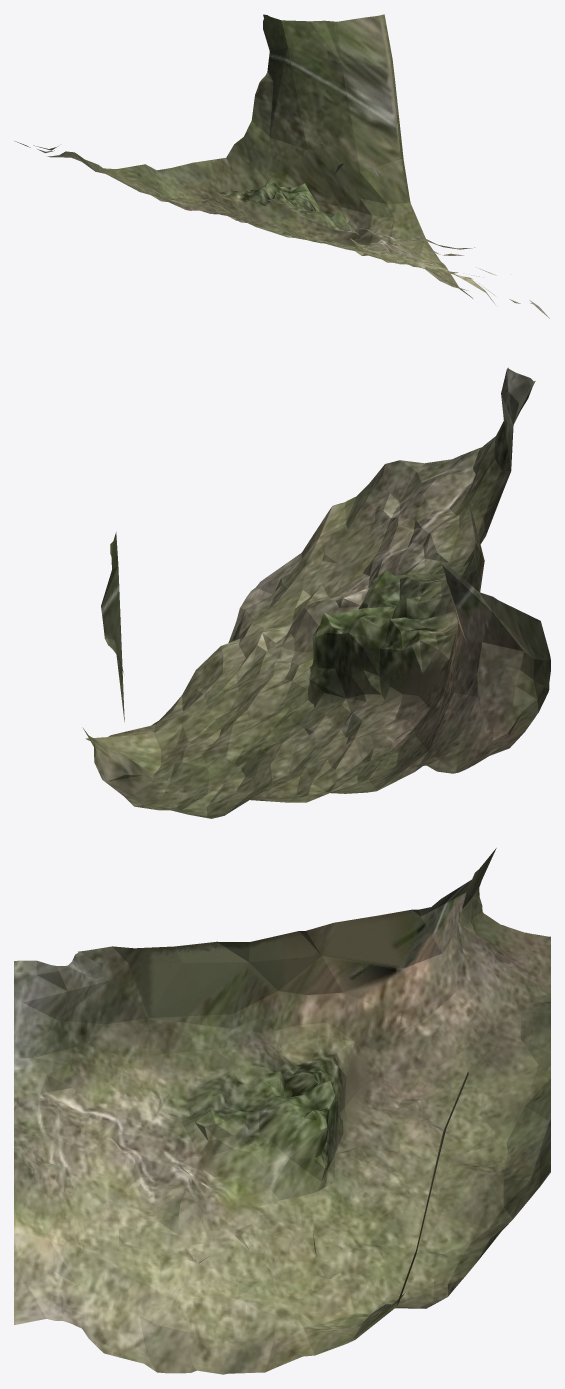
3 views of the same model, one above another, from view 1: azimuth 30°, elevation 25°; view 2: azimuth 150°, elevation 25°; view 3: azimuth 270°, elevation 25° (orthographic). The views are drawn at different scales.
Bounding box in the file's own units: 11.8 × 7.28 × 11.8.
Materials: 3 (3 with a texture image).
